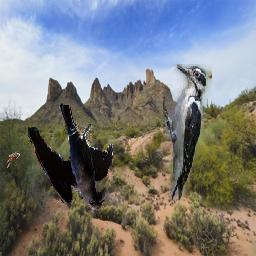Crow: (29, 104, 114, 211)
Cuckoo: (6, 152, 20, 169)
Woodpecker: (164, 64, 213, 206)
